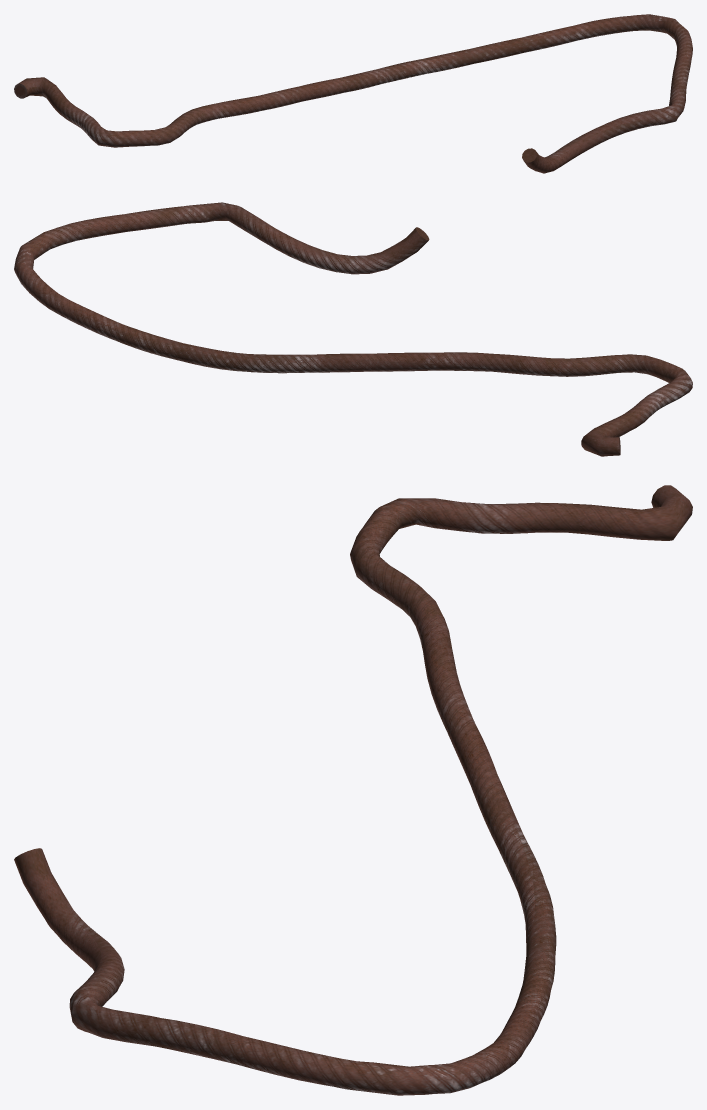
The model's file is MOD_DebrisWires_C.fbx.
3 renders of one model, top to bottom at view 1: azimuth 30°, elevation 25°; view 2: azimuth 150°, elevation 25°; view 3: azimuth 270°, elevation 25°, orthographic. The views are drawn at different scales.
Parts seen in each view (by area): view 1: MOD_DebrisWires_C; view 2: MOD_DebrisWires_C; view 3: MOD_DebrisWires_C.
Part boxes in pixels (x1,y1,x2,y2): MOD_DebrisWires_C: [14, 14, 692, 173]; MOD_DebrisWires_C: [14, 202, 692, 456]; MOD_DebrisWires_C: [14, 485, 692, 1095].
Bounding box in the file's own units: 86.67 × 9 × 45.83.
1 material, 1 textured.
